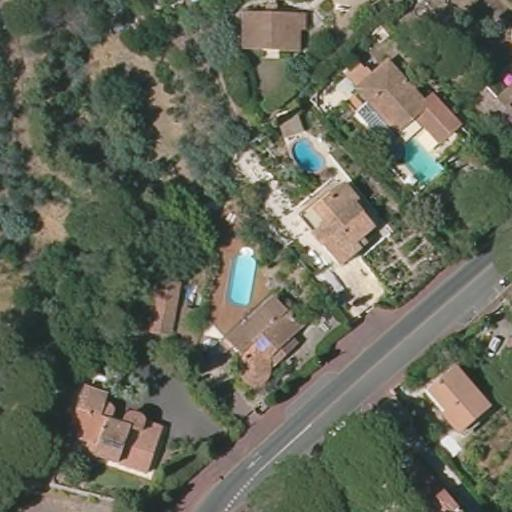pool: (394, 140, 442, 182), (227, 247, 255, 307), (357, 96, 393, 135), (289, 137, 324, 173)
